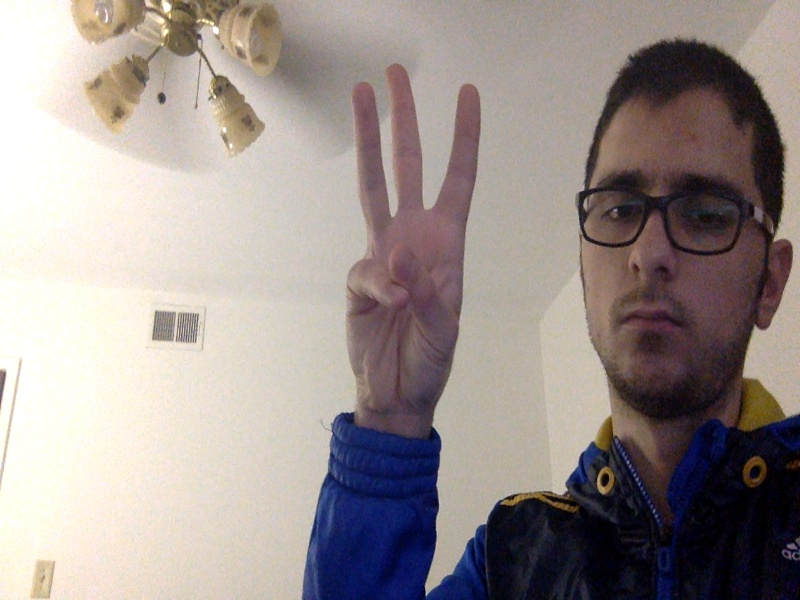3-hand: (347, 67, 479, 416)
